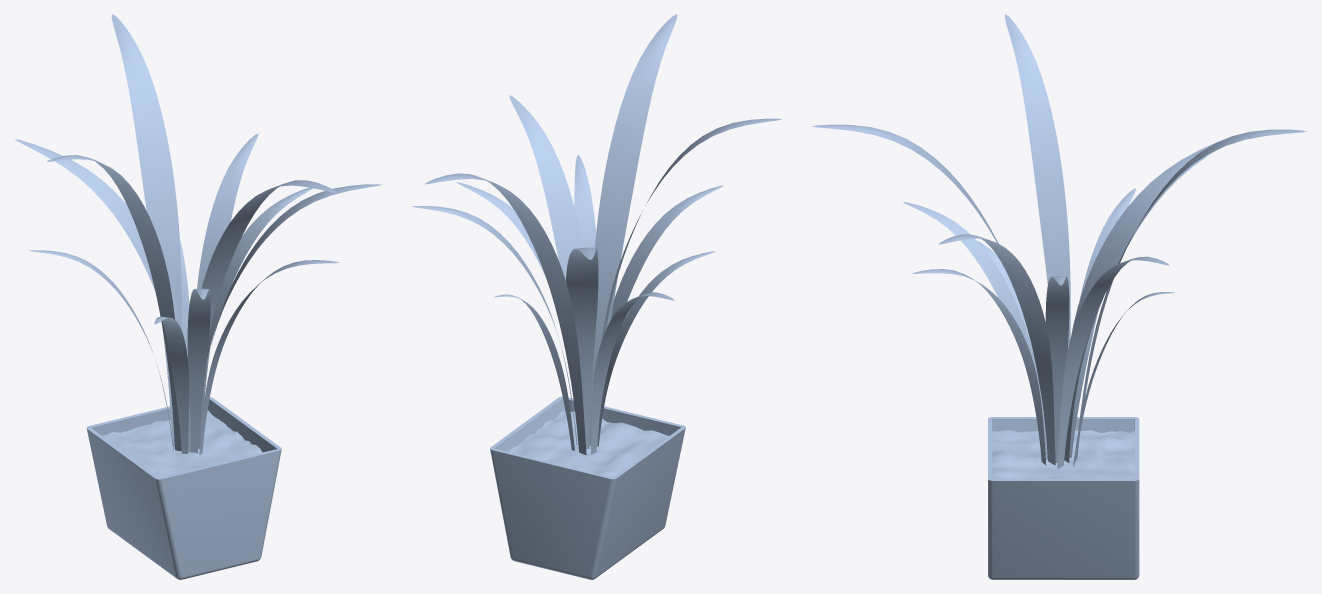
Rendered from plant.fbx.
3 views of the same model, side by side, from view 1: azimuth 30°, elevation 25°; view 2: azimuth 150°, elevation 25°; view 3: azimuth 270°, elevation 25° (orthographic). The views are drawn at different scales.
Visible parts, largest first — view 1: Object_102.001, Object_98.002, Object_100.001; view 2: Object_102.001, Object_98.002, Object_100.001; view 3: Object_102.001, Object_98.002, Object_100.001.
Boxes of the visible parts, box(x1,y1,x2,y2) form: Object_102.001: box(15, 14, 381, 454); Object_98.002: box(86, 397, 281, 579); Object_100.001: box(102, 410, 262, 477); Object_102.001: box(412, 14, 781, 455); Object_98.002: box(490, 396, 685, 579); Object_100.001: box(508, 411, 668, 477); Object_102.001: box(812, 14, 1306, 468); Object_98.002: box(988, 417, 1139, 579); Object_100.001: box(992, 430, 1134, 478).
Size of the model in its own units: 72.45 by 101 by 98.35.
